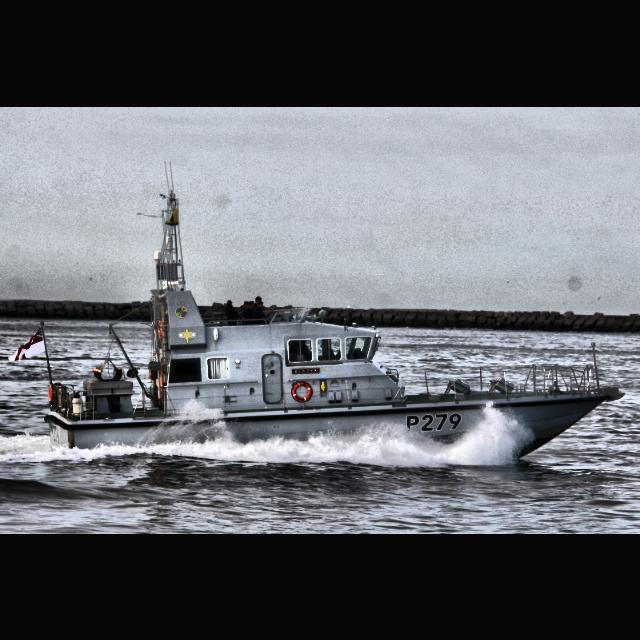patrol_vessel: (40, 258, 622, 464)
